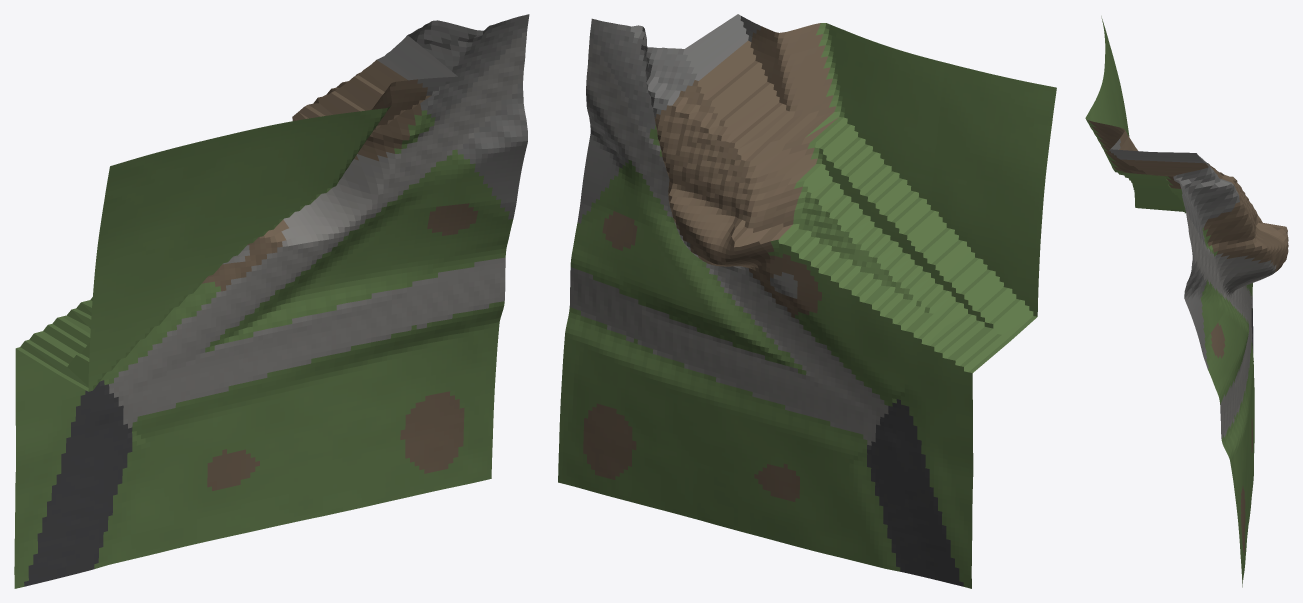
File: SARM_SAR_Terrain_03_04.glb
The picture shows the model from 3 angles, left to right: view 1: azimuth 30°, elevation 25°; view 2: azimuth 150°, elevation 25°; view 3: azimuth 270°, elevation 25°; orthographic projection. The views are drawn at different scales.
Visible parts, largest first — view 1: SAR_Terrain_03_04.001; view 2: SAR_Terrain_03_04.001; view 3: SAR_Terrain_03_04.001.
Boxes of the visible parts, left/top/right/bottom form: SAR_Terrain_03_04.001: left=14, top=14, right=529, bottom=588; SAR_Terrain_03_04.001: left=558, top=14, right=1056, bottom=588; SAR_Terrain_03_04.001: left=1085, top=16, right=1288, bottom=587.
Size of the model in its own units: 50 by 50 by 23.49.
